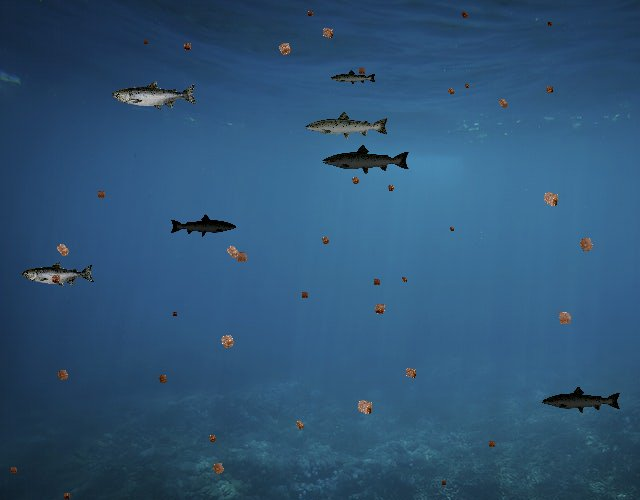Fish: (321, 144, 411, 176), (304, 110, 390, 141), (112, 80, 198, 111), (541, 386, 622, 415), (22, 261, 95, 287), (170, 213, 238, 238), (330, 70, 377, 87)
Pellet: (316, 22, 339, 45), (493, 93, 513, 113), (179, 38, 196, 55), (369, 275, 384, 289), (462, 80, 472, 91)
